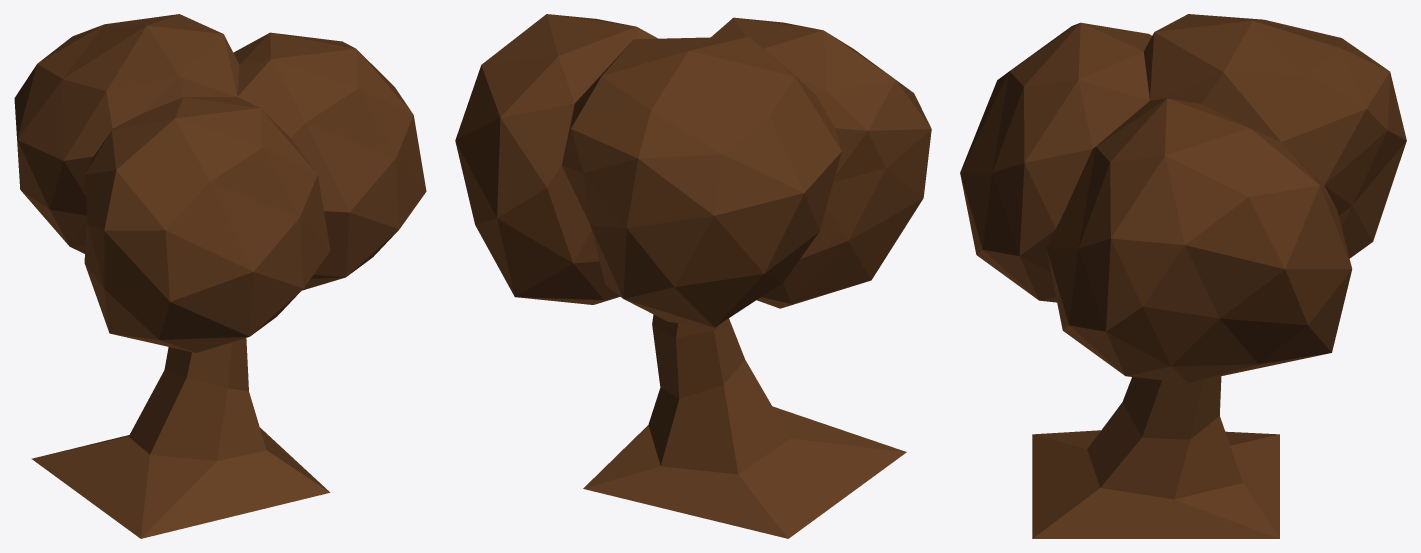
The model's file is ArbrePrairie_F.FBX.
The picture shows the model from 3 angles, left to right: view 1: azimuth 30°, elevation 25°; view 2: azimuth 150°, elevation 25°; view 3: azimuth 270°, elevation 25°; orthographic projection. The views are drawn at different scales.
Visible parts, largest first — view 1: ArbrePrairie_F; view 2: ArbrePrairie_F; view 3: ArbrePrairie_F.
Part boxes in pixels (x1,y1,x2,y2): ArbrePrairie_F: [14, 14, 426, 538]; ArbrePrairie_F: [455, 14, 931, 538]; ArbrePrairie_F: [960, 14, 1406, 538].
Bounding box in the file's own units: 1.87 × 2.1 × 1.8.
